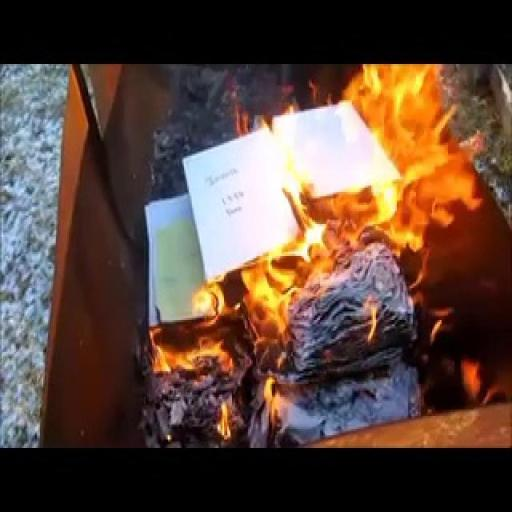smoke: (220, 64, 470, 316), (140, 306, 238, 411)
